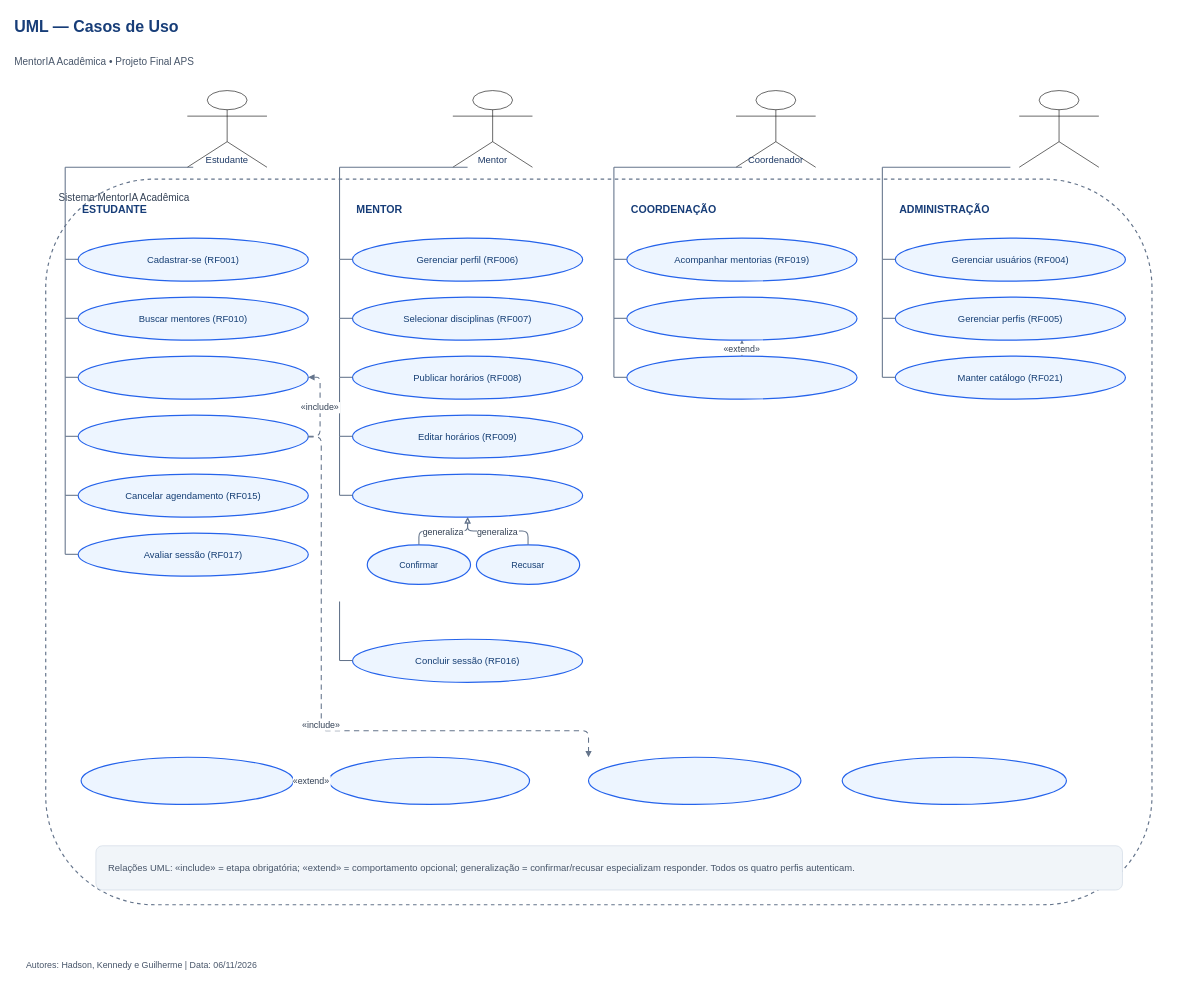
Image size: 1200x981. Some labels were removed from this diagram. The centre of each missing label's shape, as x and y in pixels:
"Administrador" goes at [1059,128].
"Autenticar (RF002)" goes at [187,780].
"Consultar horários (RF011)" goes at [193,377].
"Consultar relatórios (RF020)" goes at [741,318].
"Exportar CSV (RF020)" goes at [741,377].
"Notificar status (RF018)" goes at [954,780].
"Recuperar senha (RF003)" goes at [429,780].
"Responder solicitação (RF014)" goes at [467,495].
"Solicitar agendamento (RF012)" goes at [193,436].
"Verificar conflito (RF013)" goes at [694,780].
